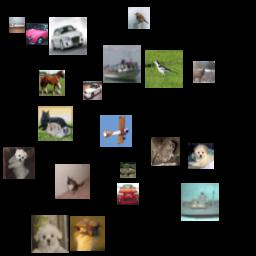airplane: (100, 115, 132, 147)
automobile: (49, 17, 87, 55), (117, 183, 139, 205), (26, 23, 48, 45), (83, 81, 102, 100)
bird: (145, 50, 183, 88), (70, 216, 105, 251), (128, 7, 150, 29)
cat: (55, 164, 90, 199), (38, 106, 73, 141)
deer: (193, 61, 215, 83), (120, 162, 136, 178)
dog: (31, 215, 69, 253), (3, 147, 35, 179), (188, 143, 214, 169)
frog: (151, 137, 180, 166)
ship: (181, 183, 219, 221), (103, 45, 141, 83)
truck: (9, 17, 25, 33)
